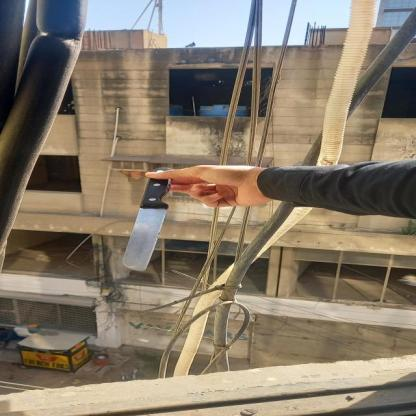Knife: (123, 168, 172, 270)
